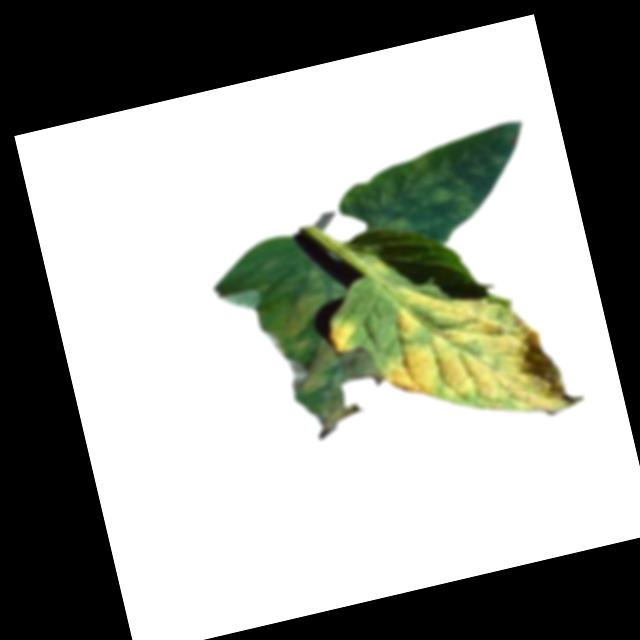Leaf_Mold: (368, 255, 570, 451), (252, 256, 395, 447), (343, 117, 541, 246)
